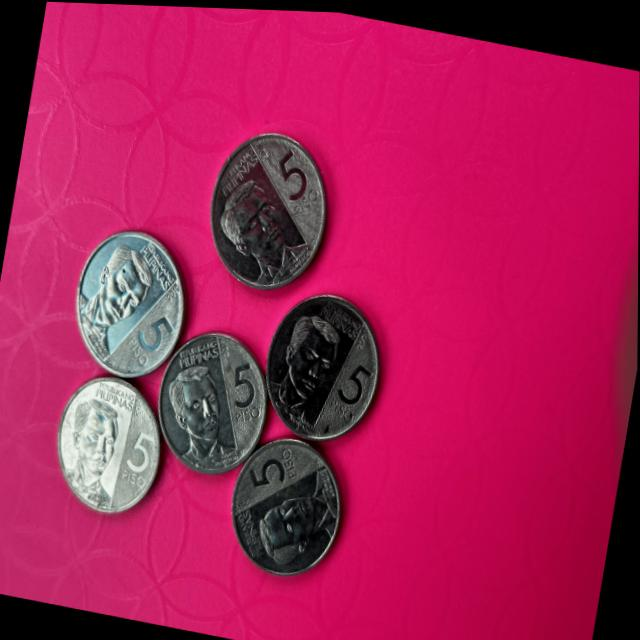5_New_Front: (241, 425, 311, 504), (221, 341, 279, 433), (120, 297, 186, 375), (267, 142, 324, 229), (113, 410, 165, 498), (323, 346, 382, 421)
